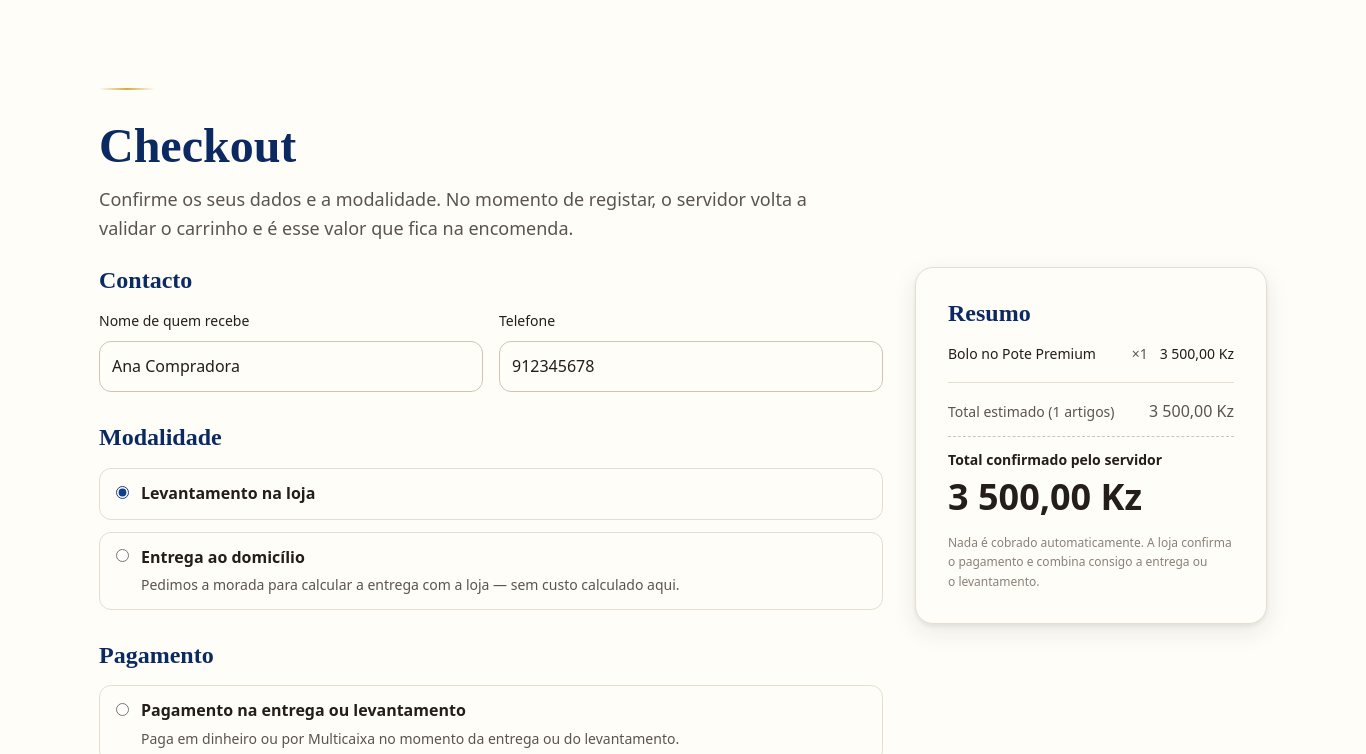
CheckoutPage › quando o servidor rejeita o carrinho (422) mostra os motivos e mantém o carrinho
Check: the text "Nome de quem recebe" is shown, box [99,311,249,330]
Click the radio button labelled "Pagamento na entrega": click(122, 709) [116,703,129,716]
(page scrolled)
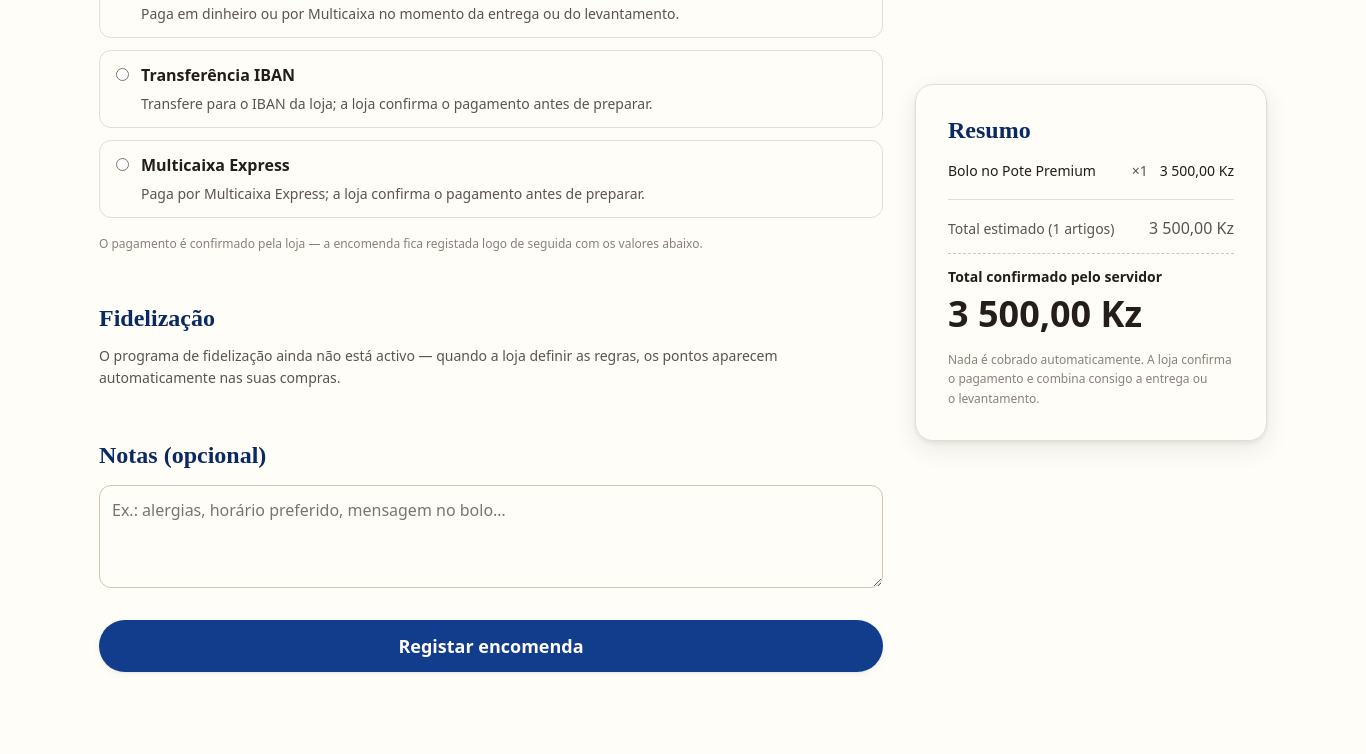
Click the button "Registar encomenda": click(491, 646) [99,620,883,672]
(page scrolled)
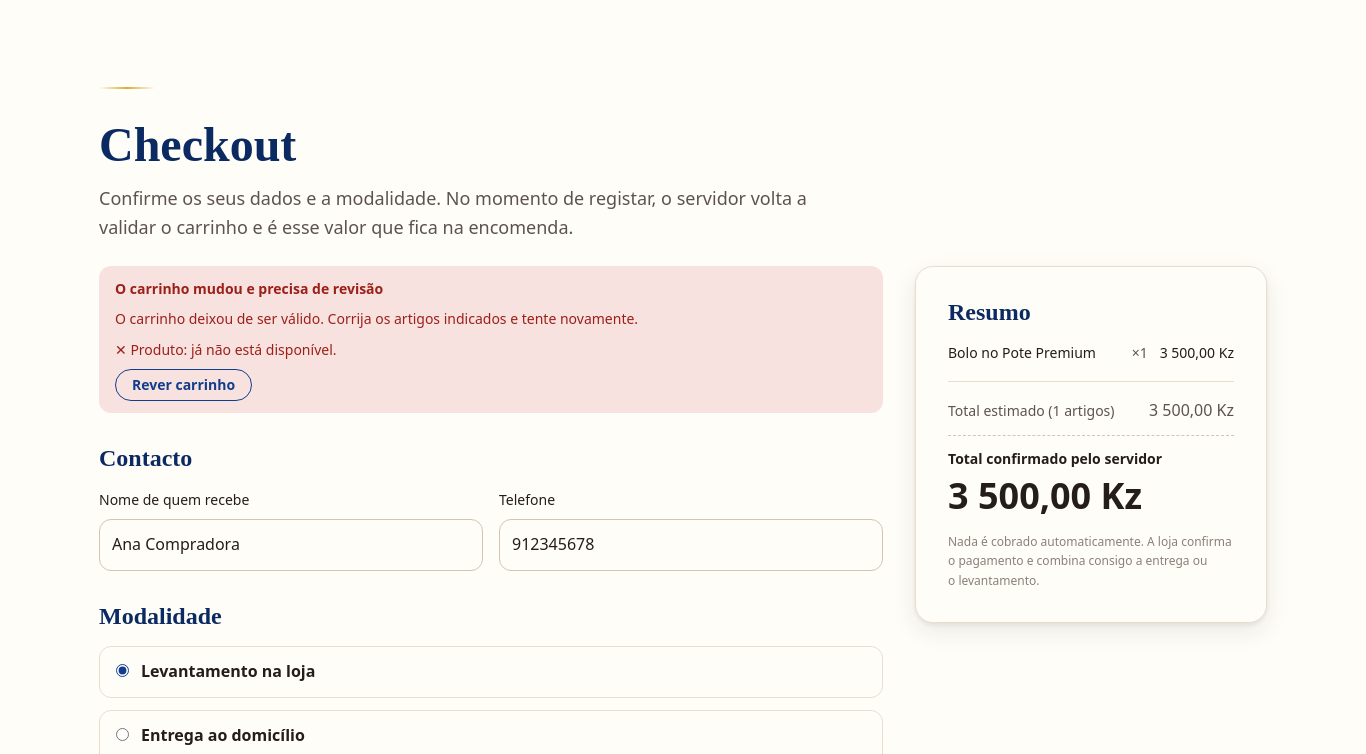
Check: the message shows "Produto: já não está disponível.", box [130,340,336,359]
